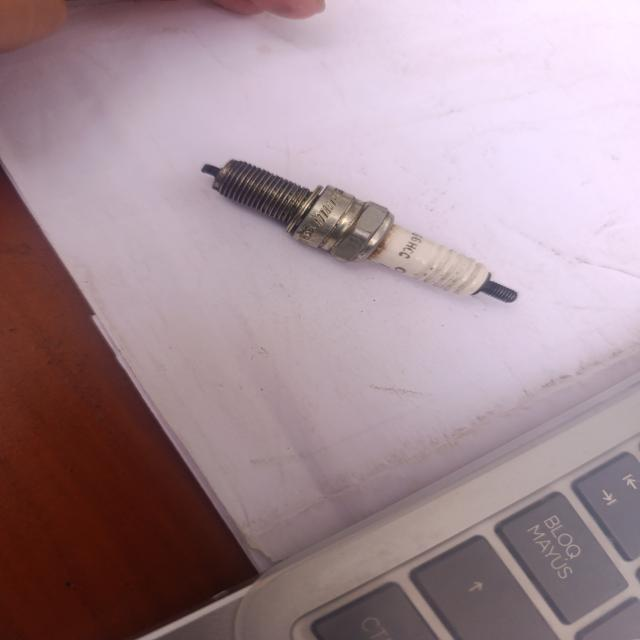bujia: (202, 160, 517, 302)
